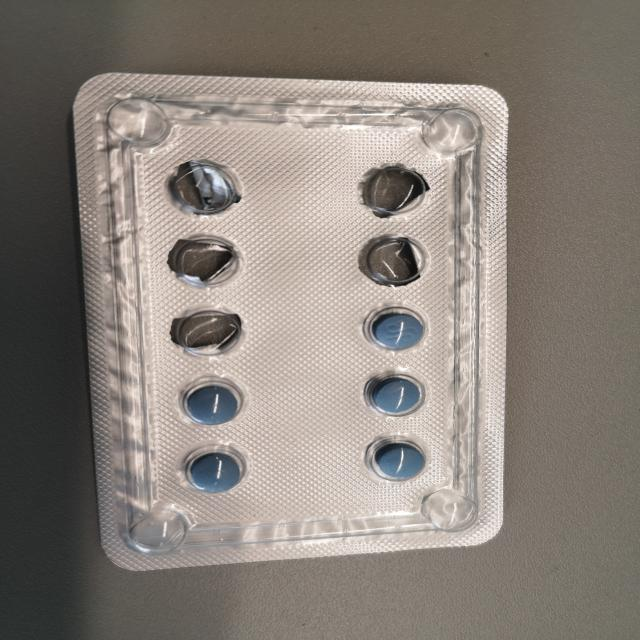Empty: (152, 156, 258, 222), (337, 157, 439, 223), (158, 230, 260, 294), (159, 303, 257, 365), (348, 228, 438, 295)
Pill: (349, 298, 443, 360), (352, 364, 442, 426), (173, 440, 261, 502), (170, 374, 256, 436), (356, 430, 441, 490)
